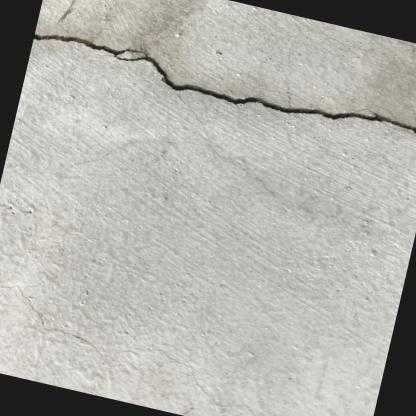crack: (34, 33, 416, 132)
